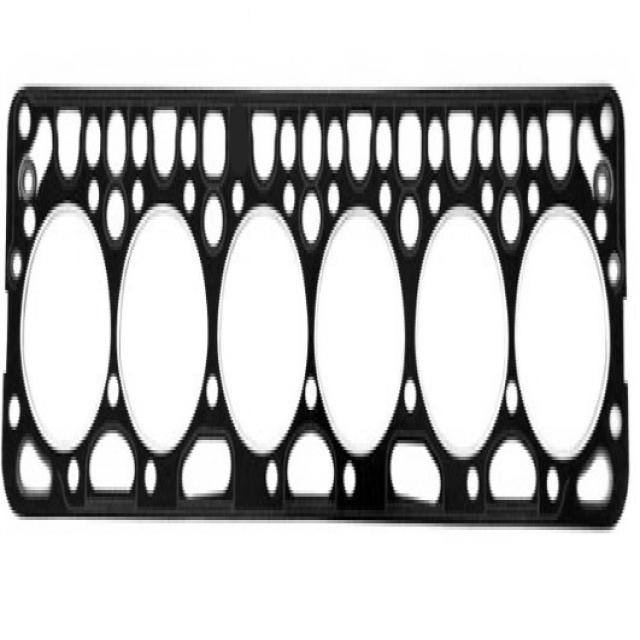missing hole: (227, 64, 253, 193)
